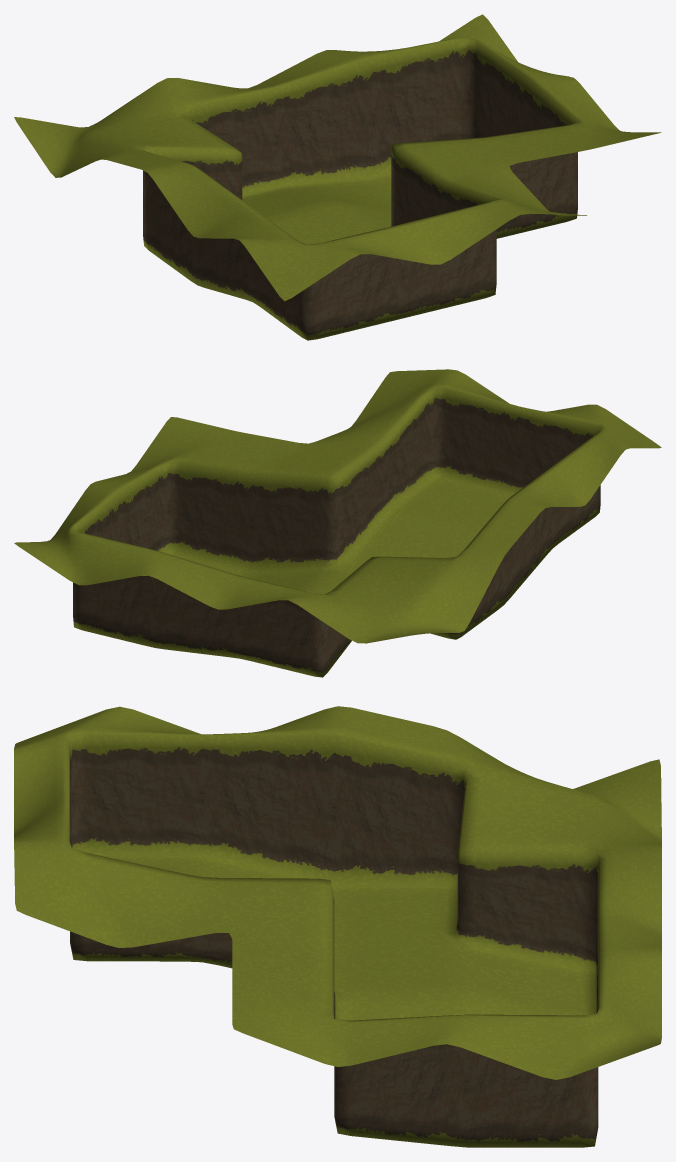
The model's file is terrain.obj.
3 views of the same model, one above another, from view 1: azimuth 30°, elevation 25°; view 2: azimuth 150°, elevation 25°; view 3: azimuth 270°, elevation 25° (orthographic). The views are drawn at different scales.
Parts seen in each view (by area): view 1: Plane; view 2: Plane; view 3: Plane.
Boxes of the visible parts, bbox=[...] form: Plane: bbox=[14, 14, 661, 340]; Plane: bbox=[14, 369, 661, 677]; Plane: bbox=[14, 706, 661, 1147].
Size of the model in its own units: 628 by 209 by 628.
Materials: 1 (1 with a texture image).
